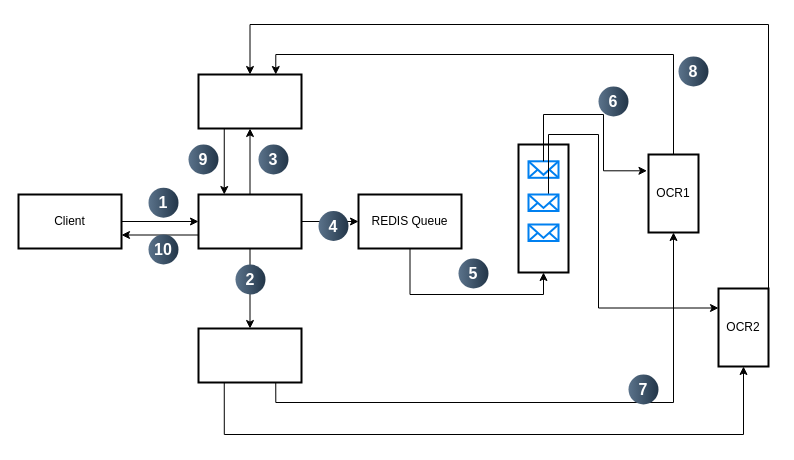
This 794x460 diagram has some shape labels left out. The shapes that lost their labels are listed below. From the top down, each one's centre as x and y in pixels, then its label:
the point at 249,101: BDD
the point at 249,221: API Python
the point at 249,355: Minio
